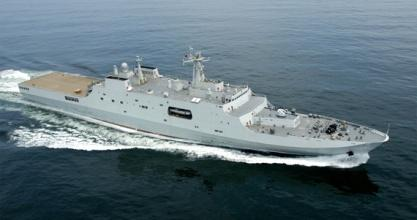warship: (17, 39, 393, 160)
